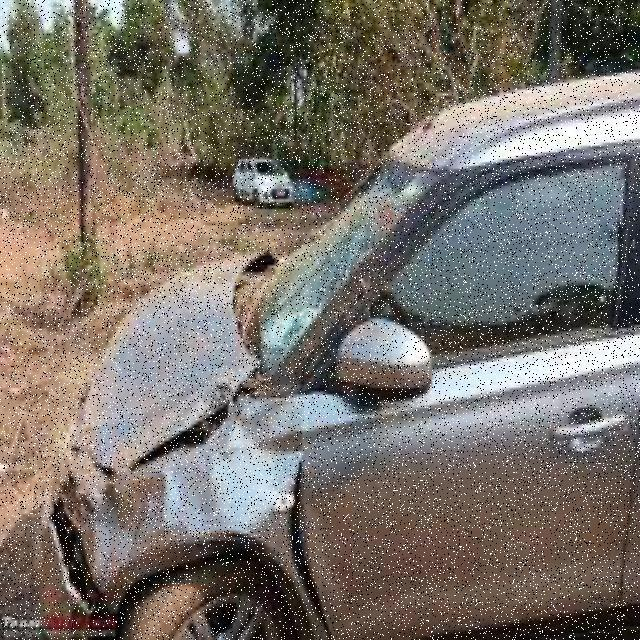Front-Windscreen-Damage: (260, 139, 456, 342)
bonnet-dent: (85, 242, 262, 471)
fender-dent: (112, 441, 306, 574)
front-bumper-dent: (12, 451, 118, 637)
